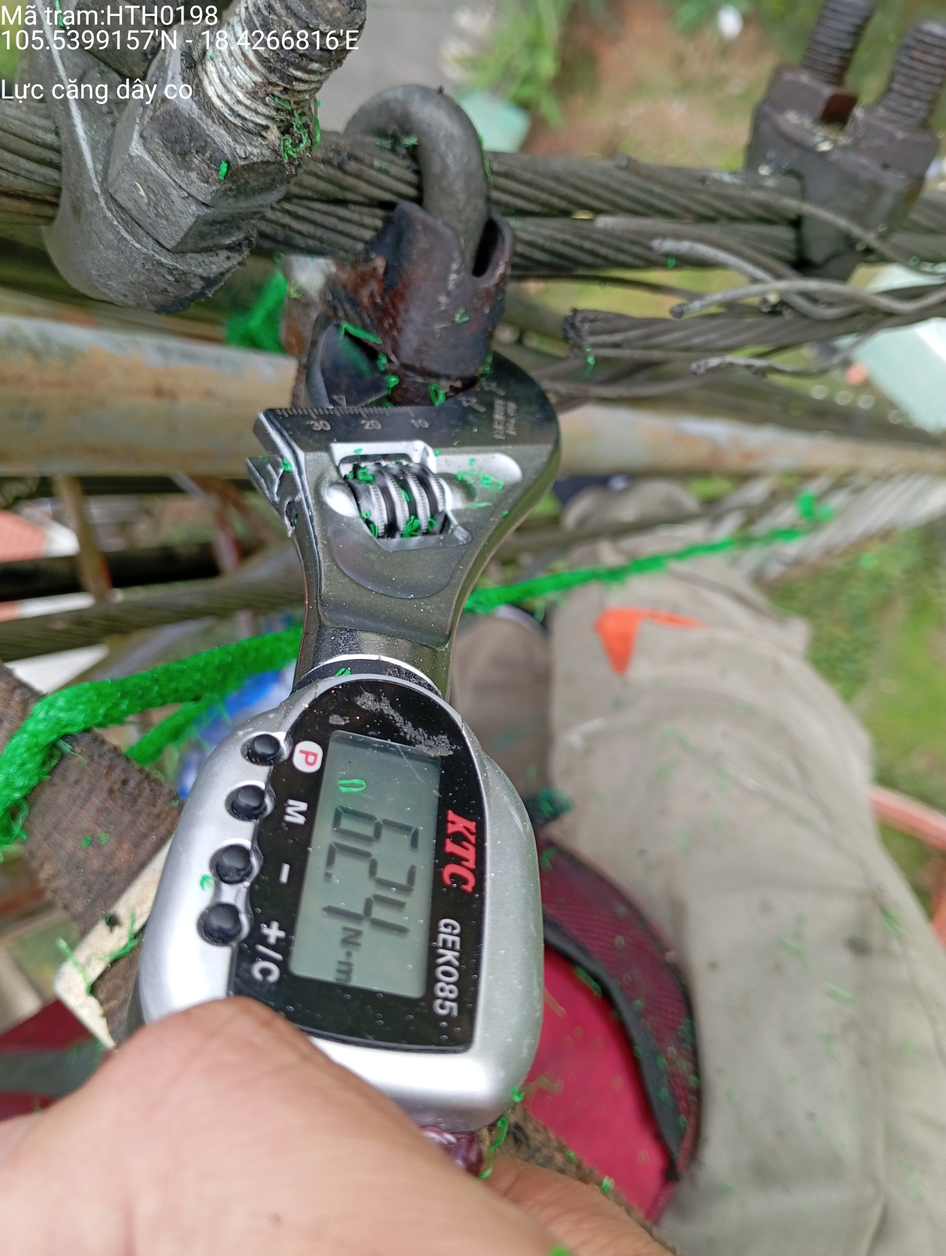lcd: (288, 720, 439, 1008)
torque: (131, 283, 567, 1135)
